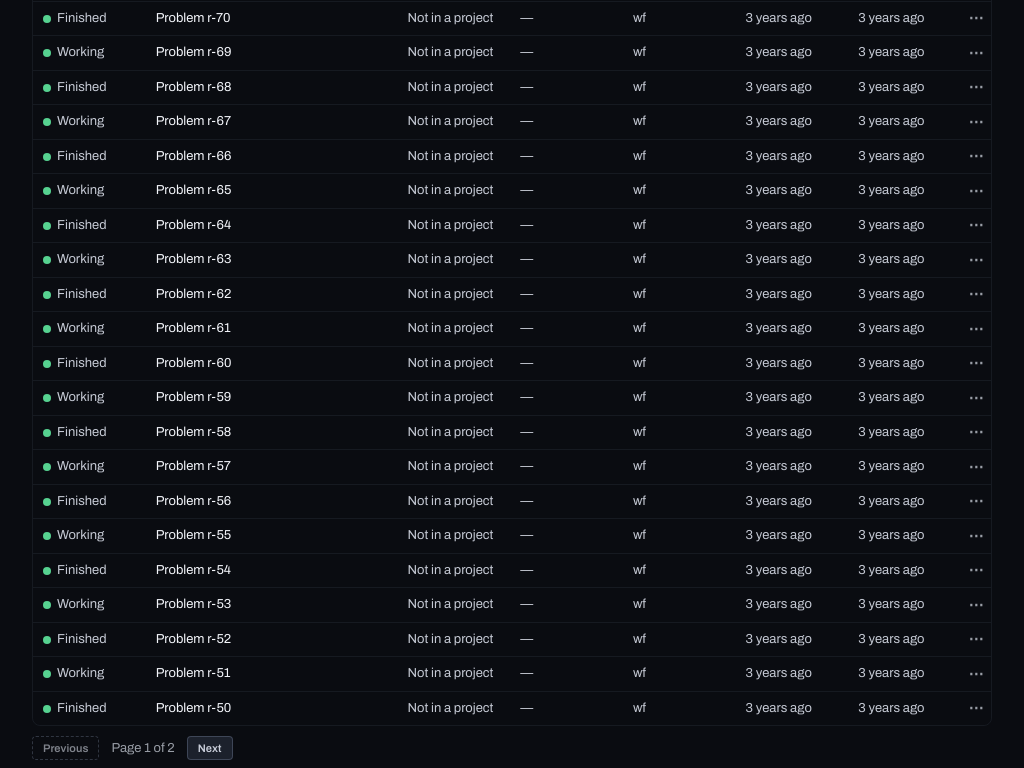
Test: S17b Every-run table › R14/R15 pager: 150 runs → 2 pages, next advances
(page scrolled)
Expected: the text with test id "runs-pager-at" reads "Page 1 of 2", [111,739,175,758]
Click the button with test id "runs-pager-next" at (210, 748), box [187,736,233,760]
(page scrolled)
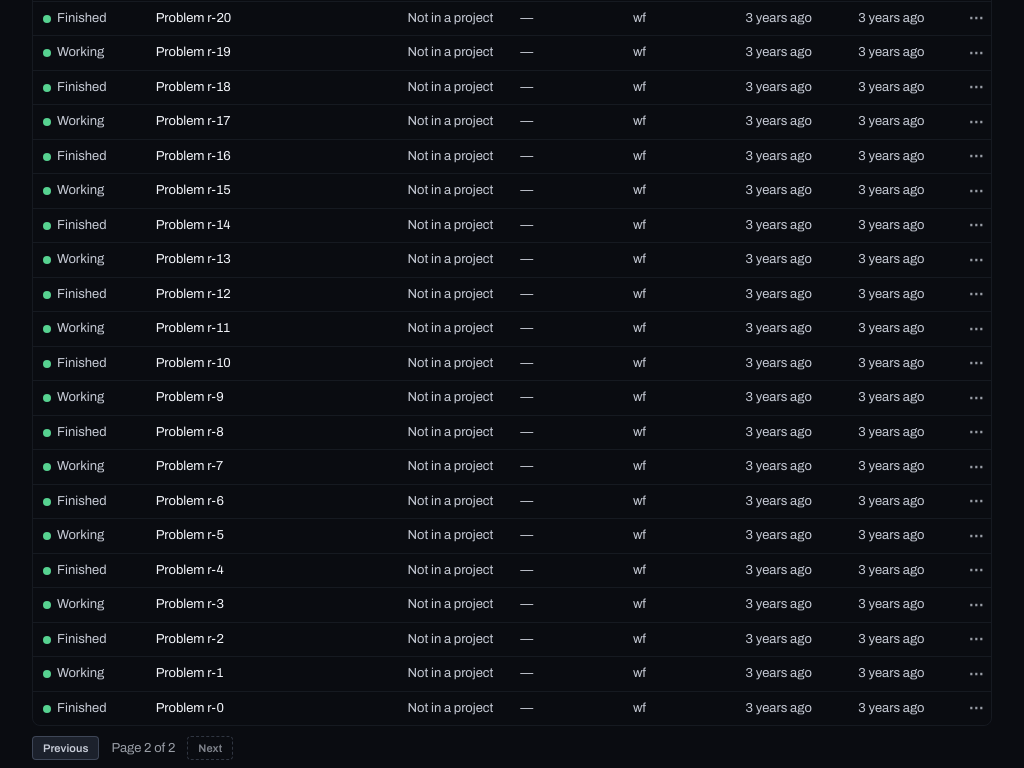
Now the text with test id "runs-pager-at" reads "Page 2 of 2", box [111,739,175,758]
